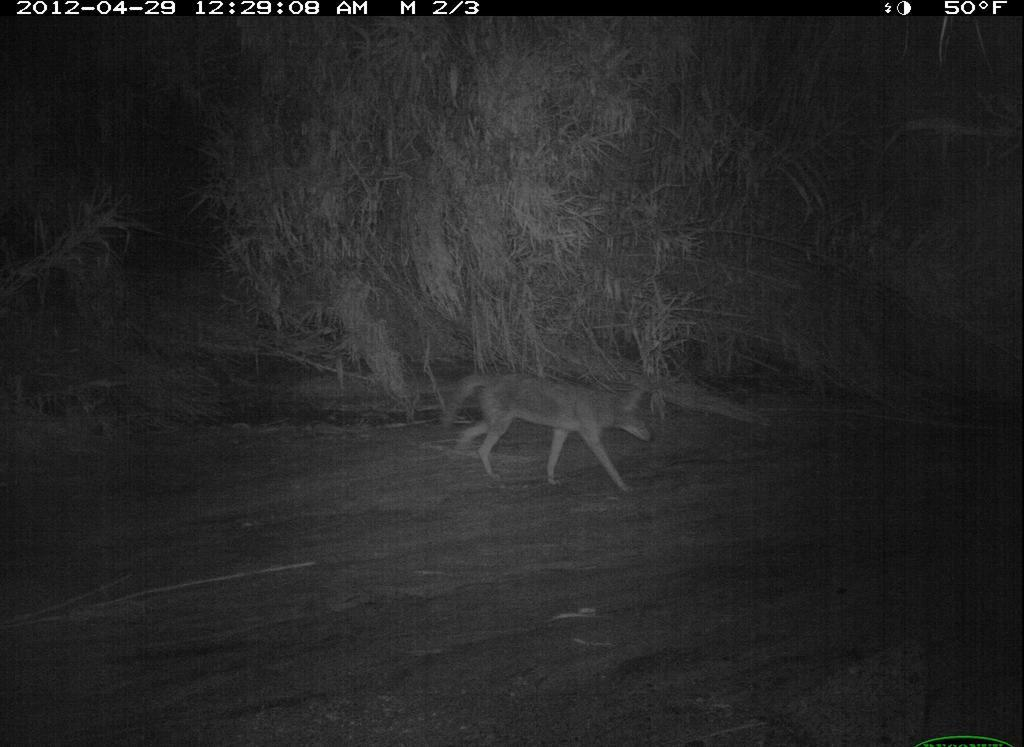coyote: (436, 347, 664, 510)
